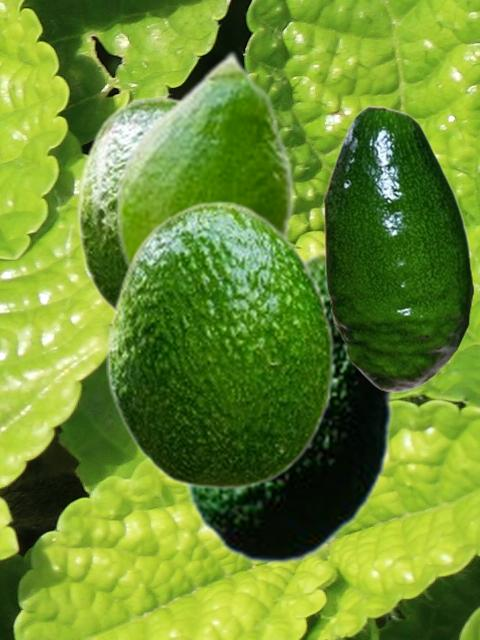avocado: (179, 246, 396, 564), (106, 200, 334, 489), (323, 105, 473, 391), (114, 49, 294, 273), (75, 96, 180, 313)
